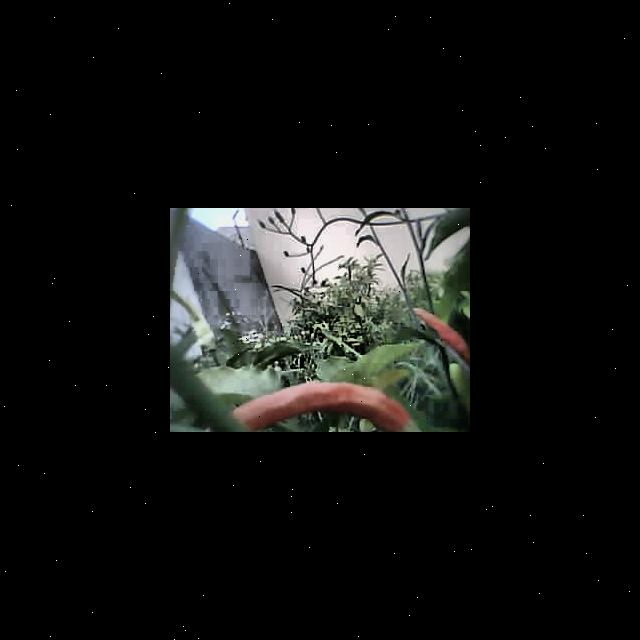Cabai: (231, 378, 423, 432), (414, 306, 470, 366)
